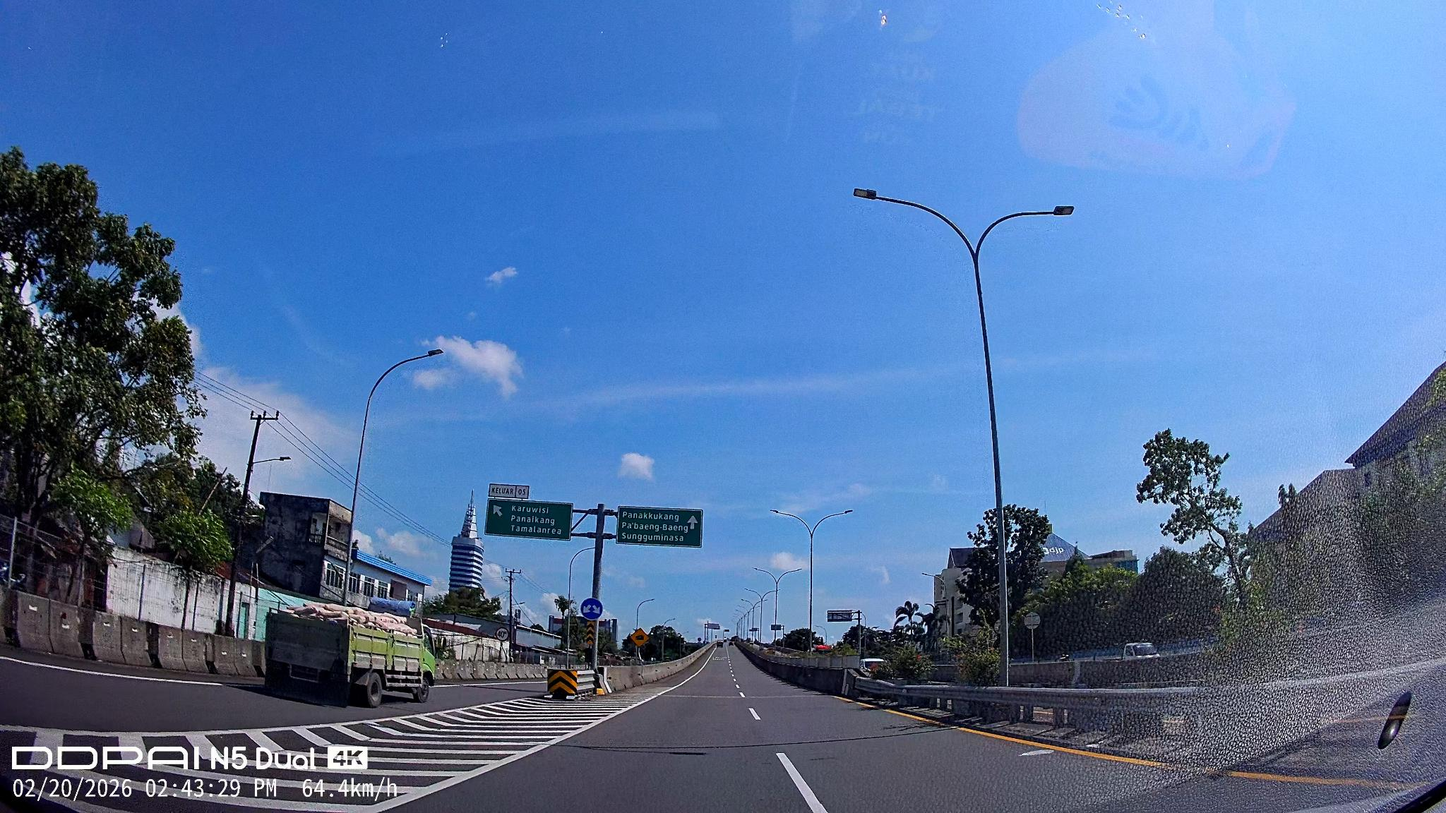rambu_teks: (617, 505, 704, 549), (484, 498, 573, 541)
